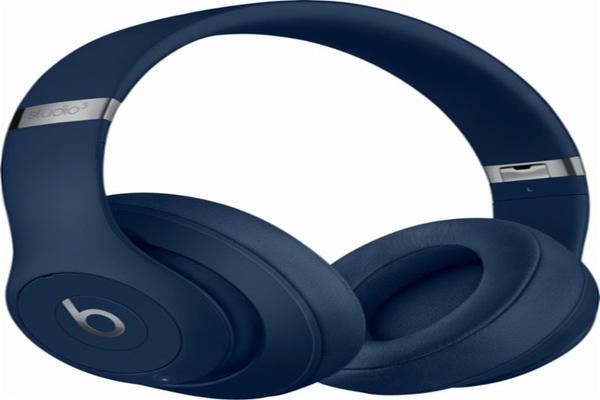headphone: (17, 17, 600, 399)
